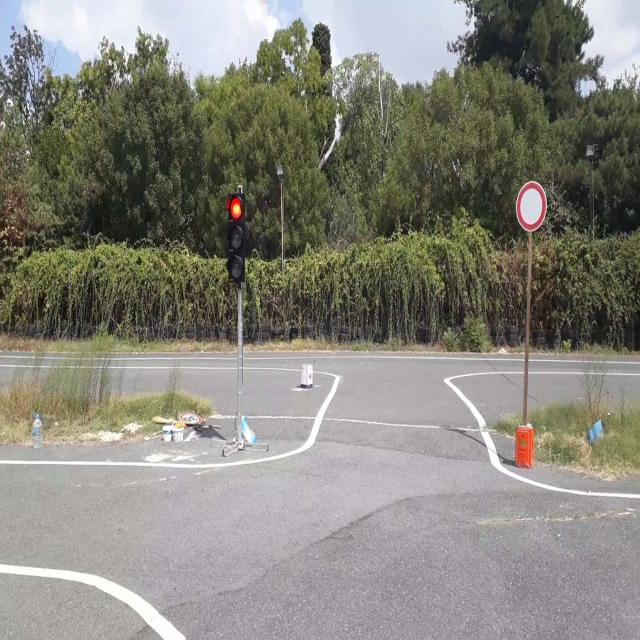kirmizi: (227, 196, 245, 282)
